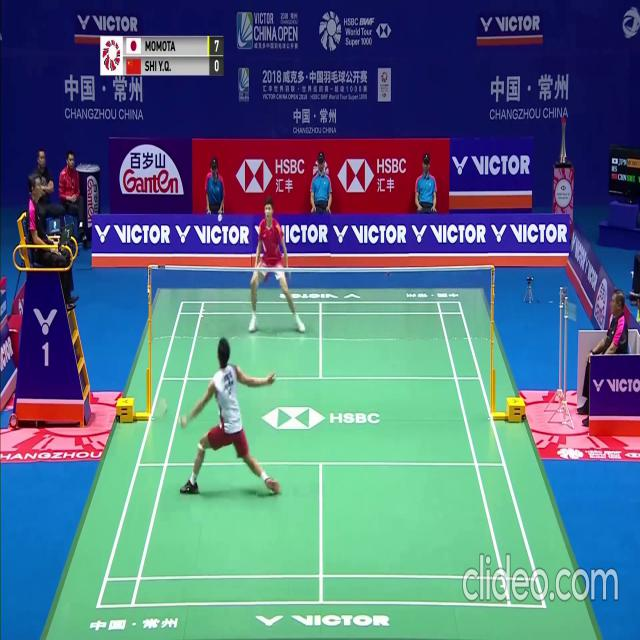Shuttlecock: (217, 213, 222, 221)
